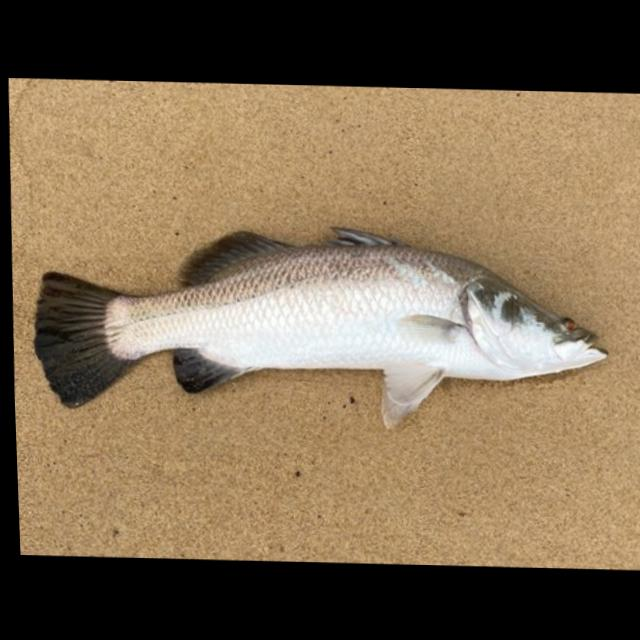Seabass: (26, 218, 614, 432)
